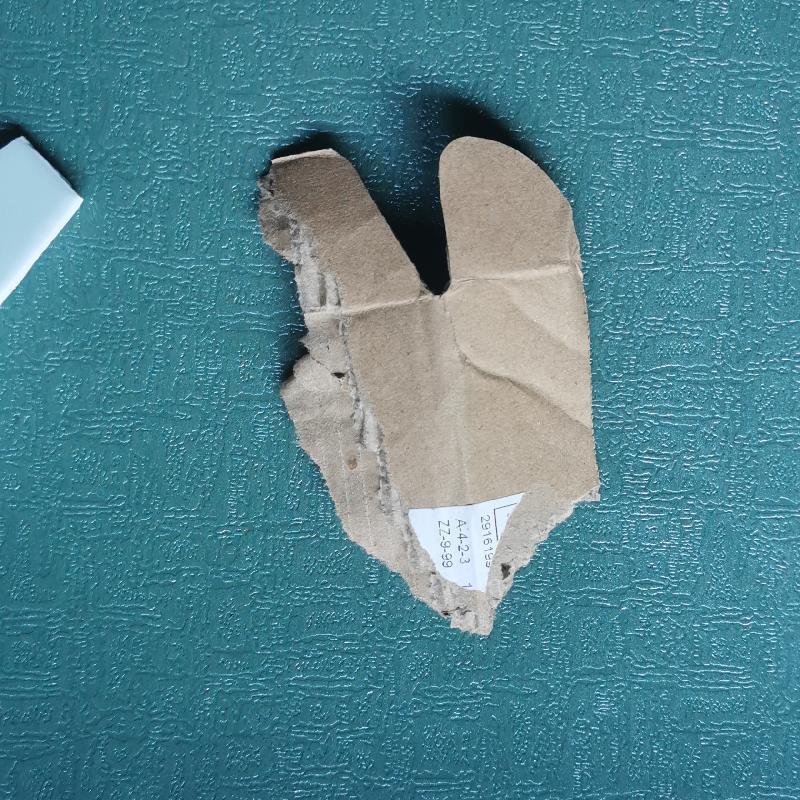boxes: (239, 126, 627, 665)
